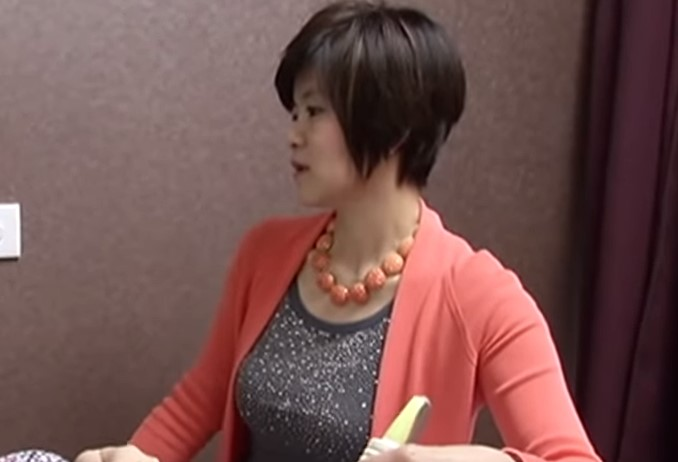face_no_mask: (285, 6, 455, 209)
